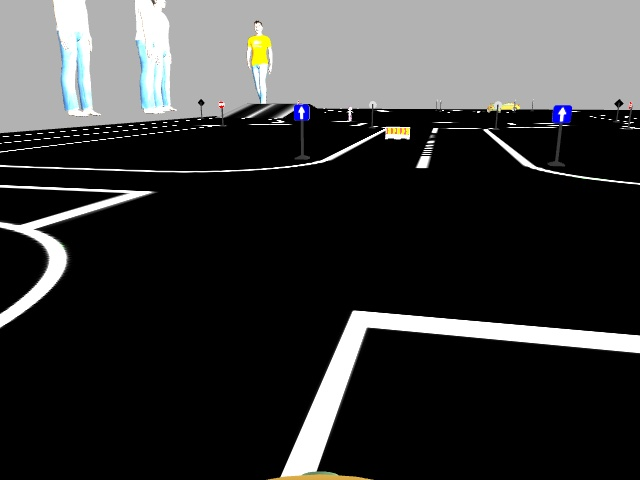ClosedRoadStand: (383, 128, 410, 139)
OneWay: (553, 105, 570, 122), (293, 104, 309, 120)
